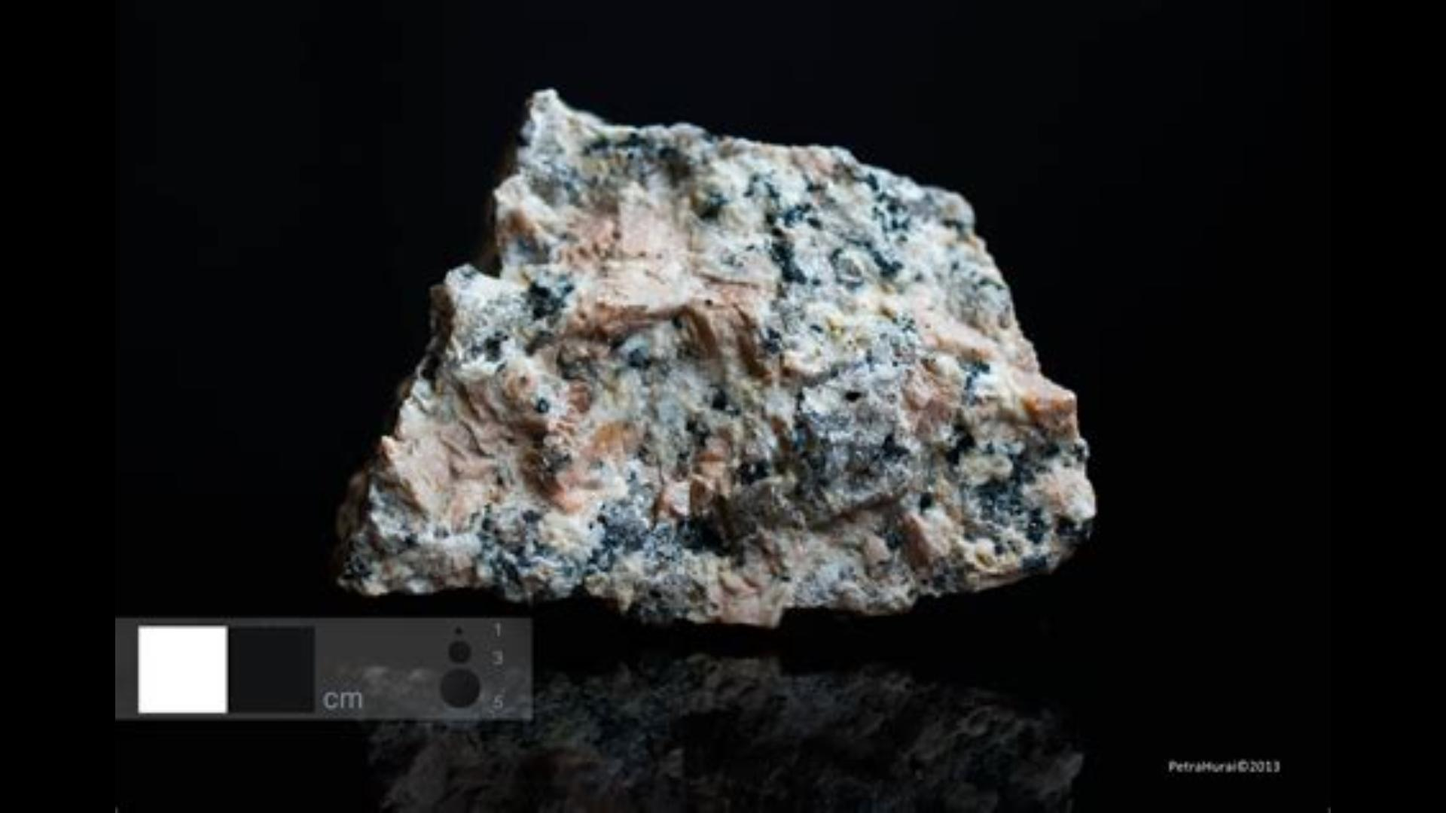rock: (336, 90, 1093, 626)
